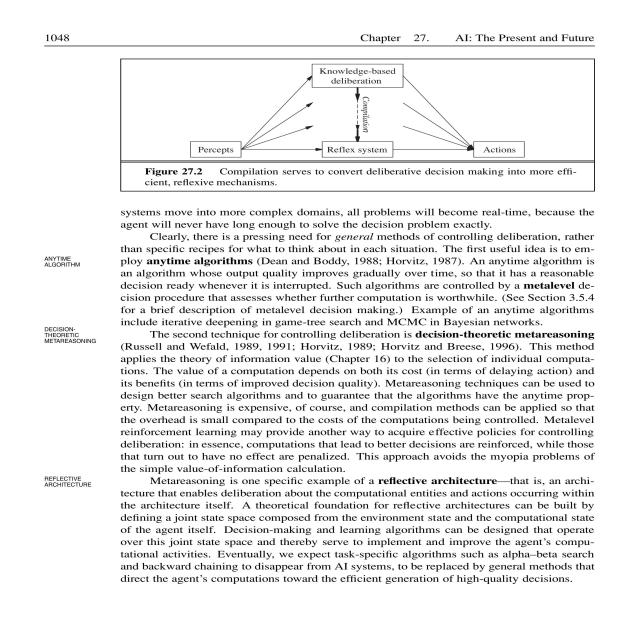diagram: (110, 54, 640, 195)
